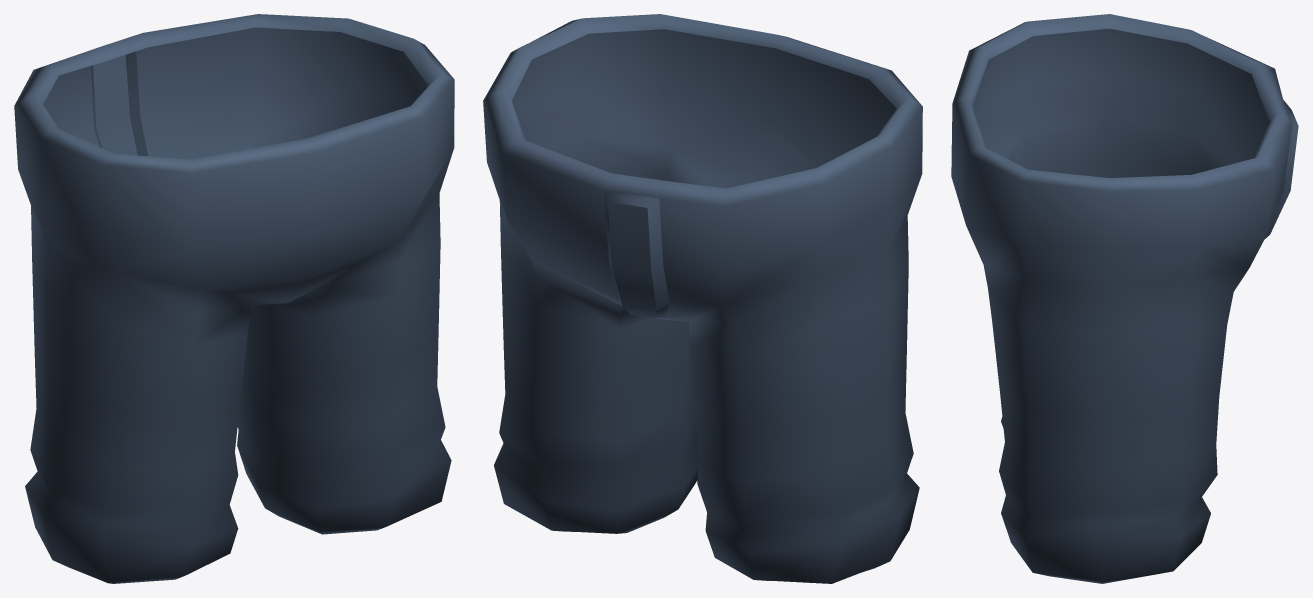
File: Bottom_7.fbx
3 views of the same model, side by side, from view 1: azimuth 30°, elevation 25°; view 2: azimuth 150°, elevation 25°; view 3: azimuth 270°, elevation 25° (orthographic). The views are drawn at different scales.
Parts seen in each view (by area): view 1: Bottom_7; view 2: Bottom_7; view 3: Bottom_7.
Boxes of the visible parts, x1,y1,x2,y2 form: Bottom_7: (14,14,454,583); Bottom_7: (483,14,922,583); Bottom_7: (951,14,1298,583).
Size of the model in its own units: 38.38 by 41.84 by 31.97.
